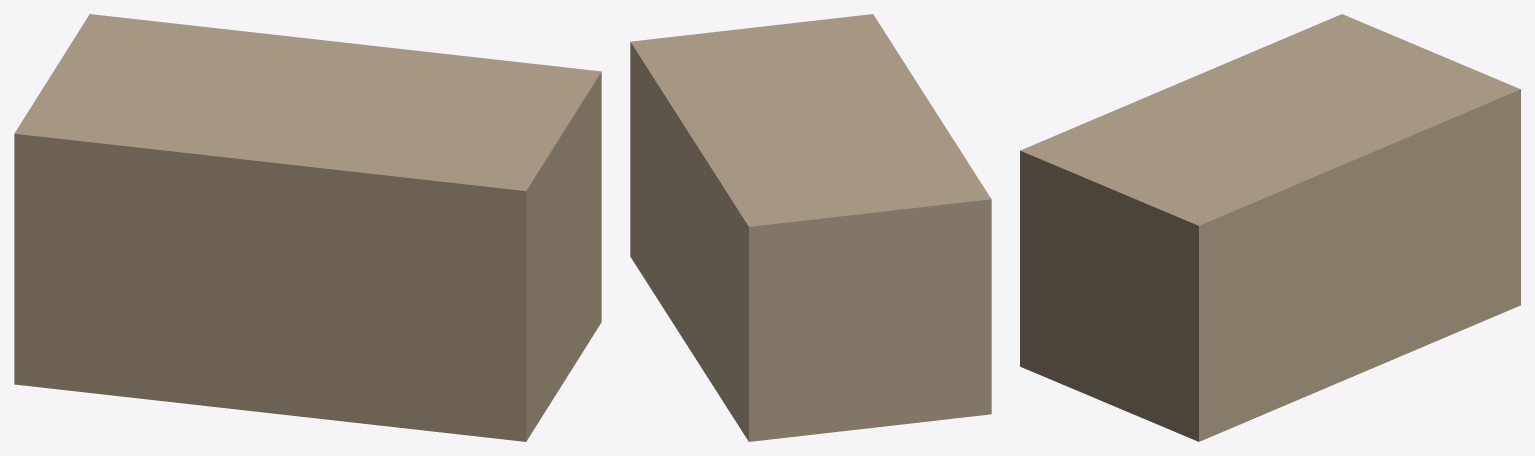
Rendered from bld_99549210.dae.
3 renders of one model, left to right at view 1: azimuth 30°, elevation 25°; view 2: azimuth 150°, elevation 25°; view 3: azimuth 270°, elevation 25°, orthographic. The views are drawn at different scales.
Visible parts, largest first — view 1: bld_99549210; view 2: bld_99549210; view 3: bld_99549210.
Boxes of the visible parts, <box> form: bld_99549210: <box>14,14,601,441</box>; bld_99549210: <box>630,14,991,441</box>; bld_99549210: <box>1020,14,1520,441</box>.
Bounding box in the file's own units: 16.83 × 16.8 × 8.
